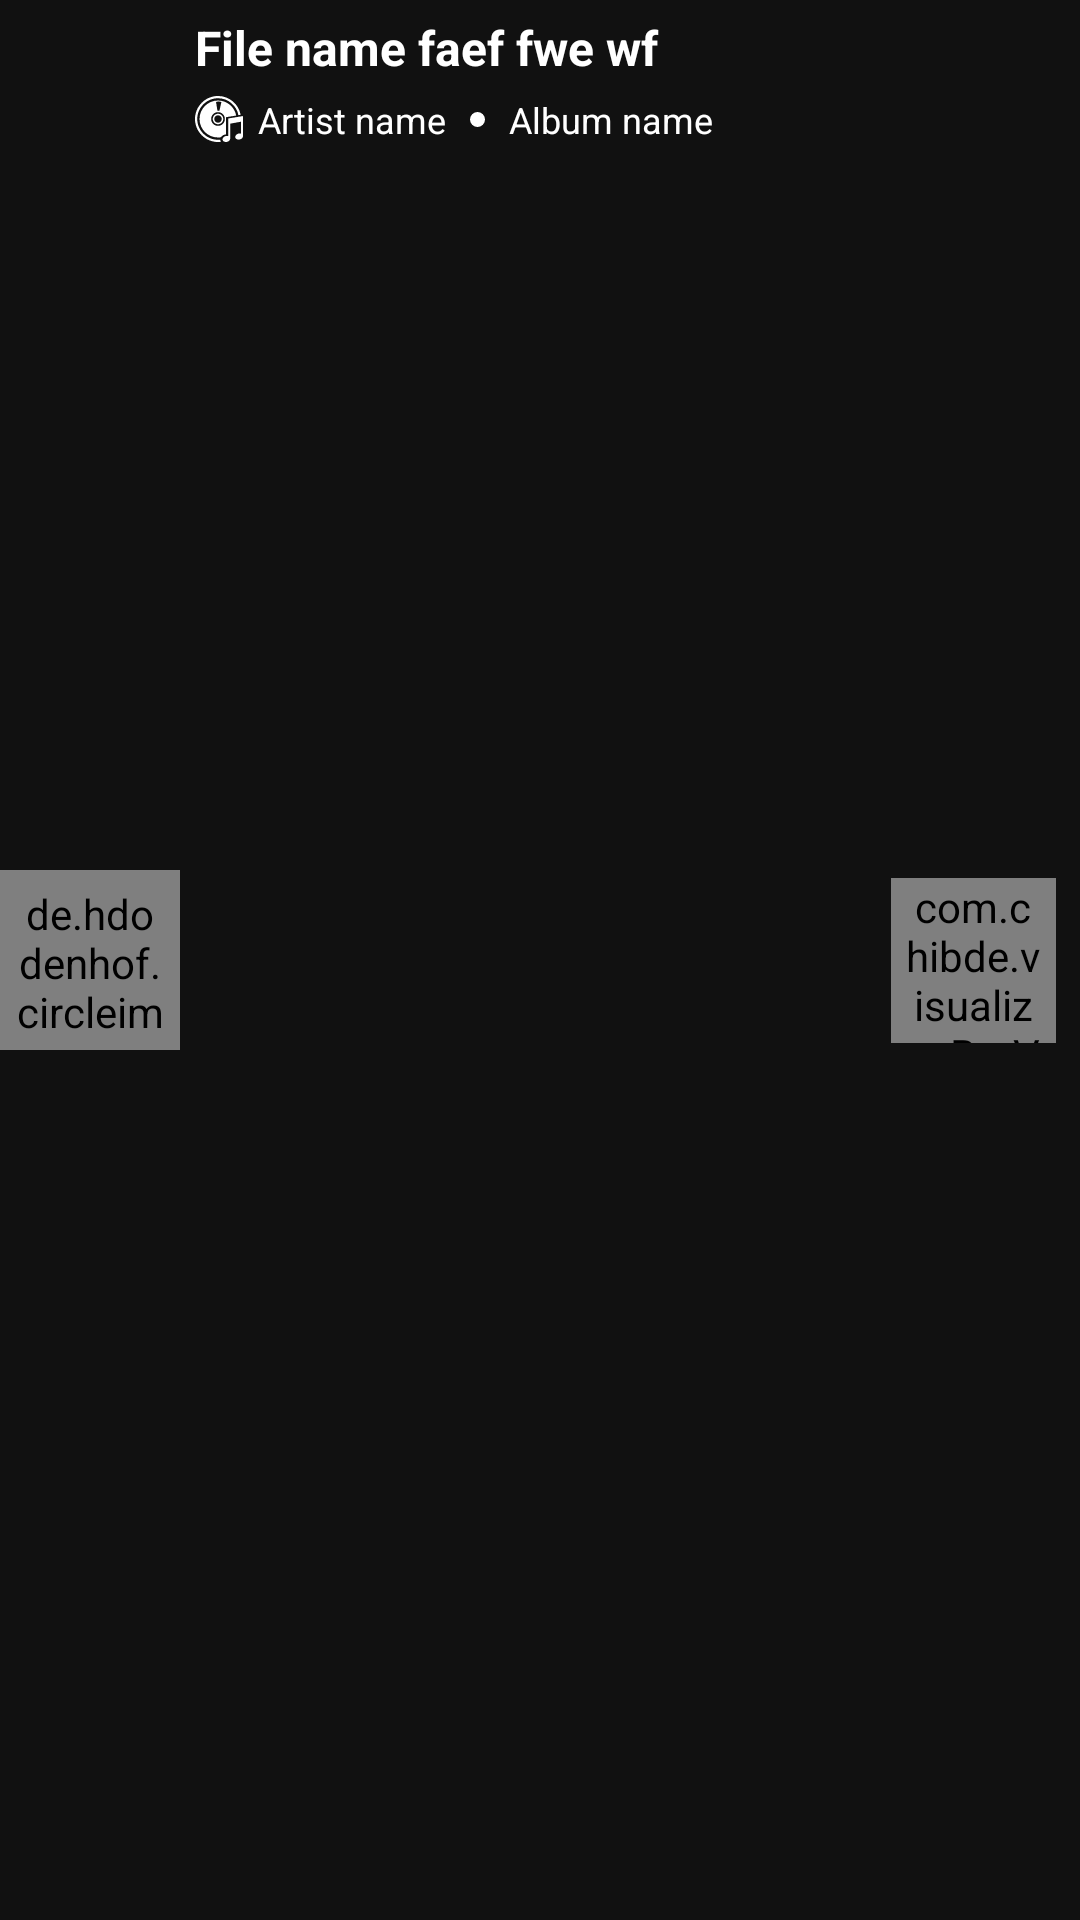

Icon click points for this 1080*1920 phone screenshot, format (x,y):
artist album: (219,119)
